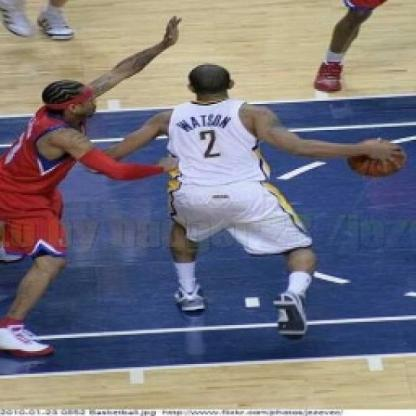basketball: (345, 132, 410, 179)
